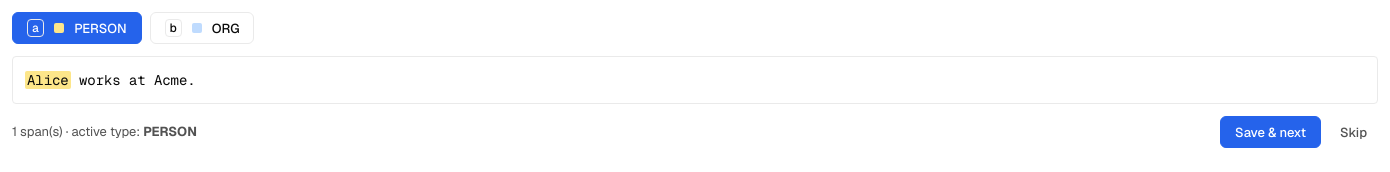
SpanLabeler › removes a span when its mark is clicked
The width and height of the screenshot is (1390, 172).
Click the text with test id "span-mark-0". click: point(48, 80)
box: [25,71,71,89]
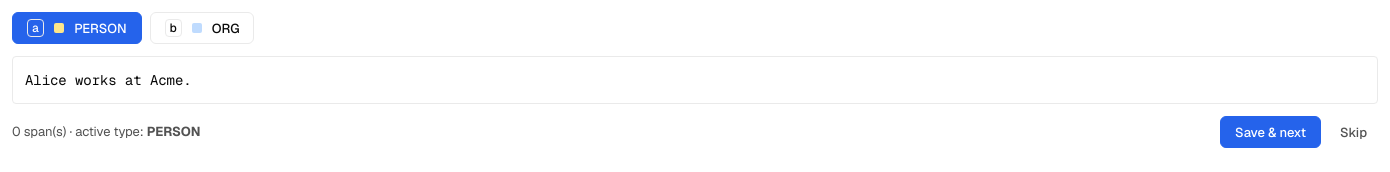
Now the text with test id "span-mark-0" is gone
Now the element with test id "span-labeler-status" shows "0 span(s)", box [12,122,200,142]
